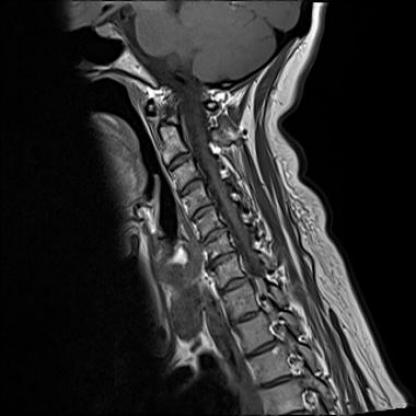Disc Bulgerotation: (200, 227, 229, 242), (188, 205, 216, 219), (208, 253, 240, 265)
